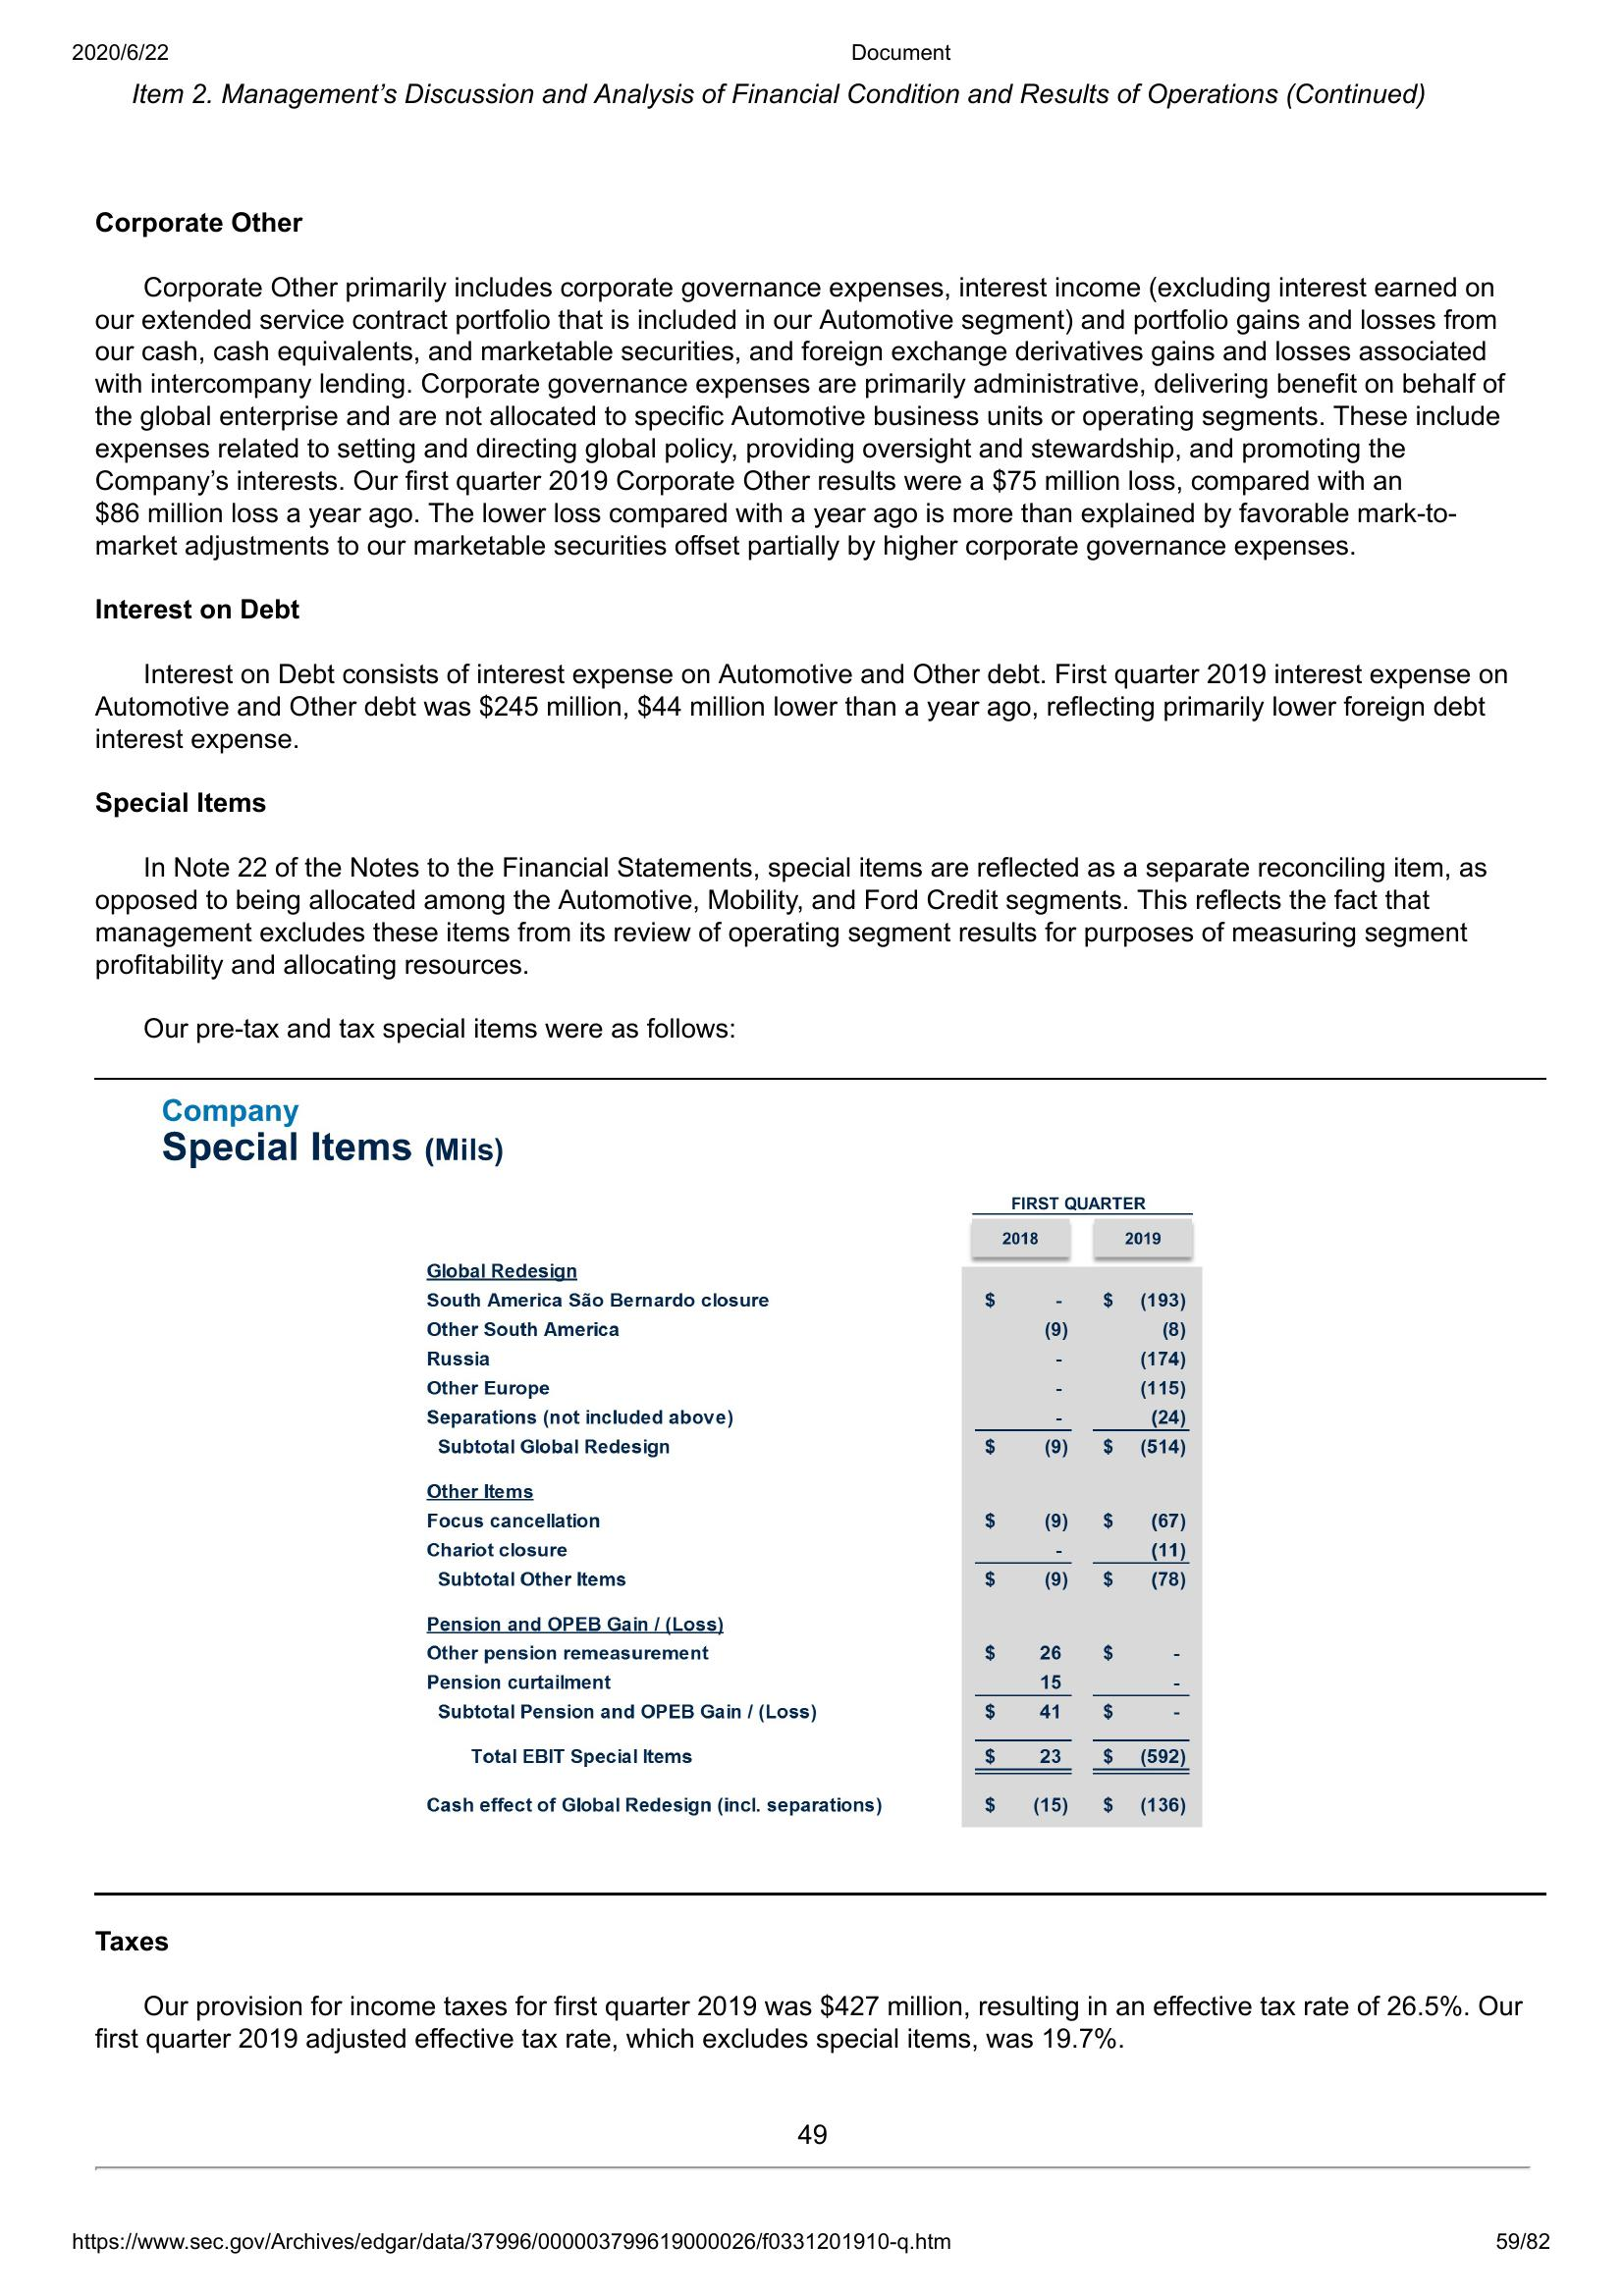table: (413, 1188, 1210, 1834)
